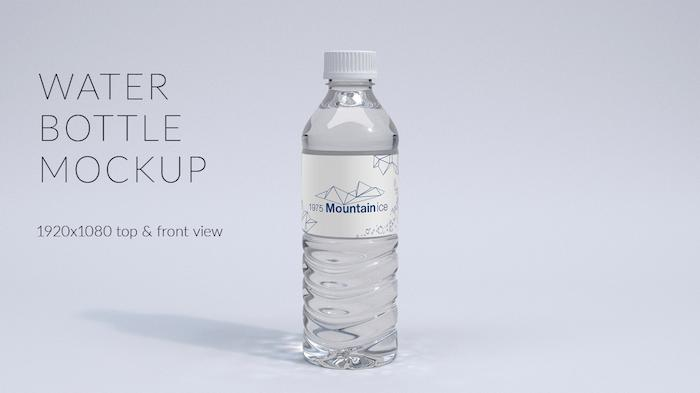bottle: (2, 6, 403, 369)
